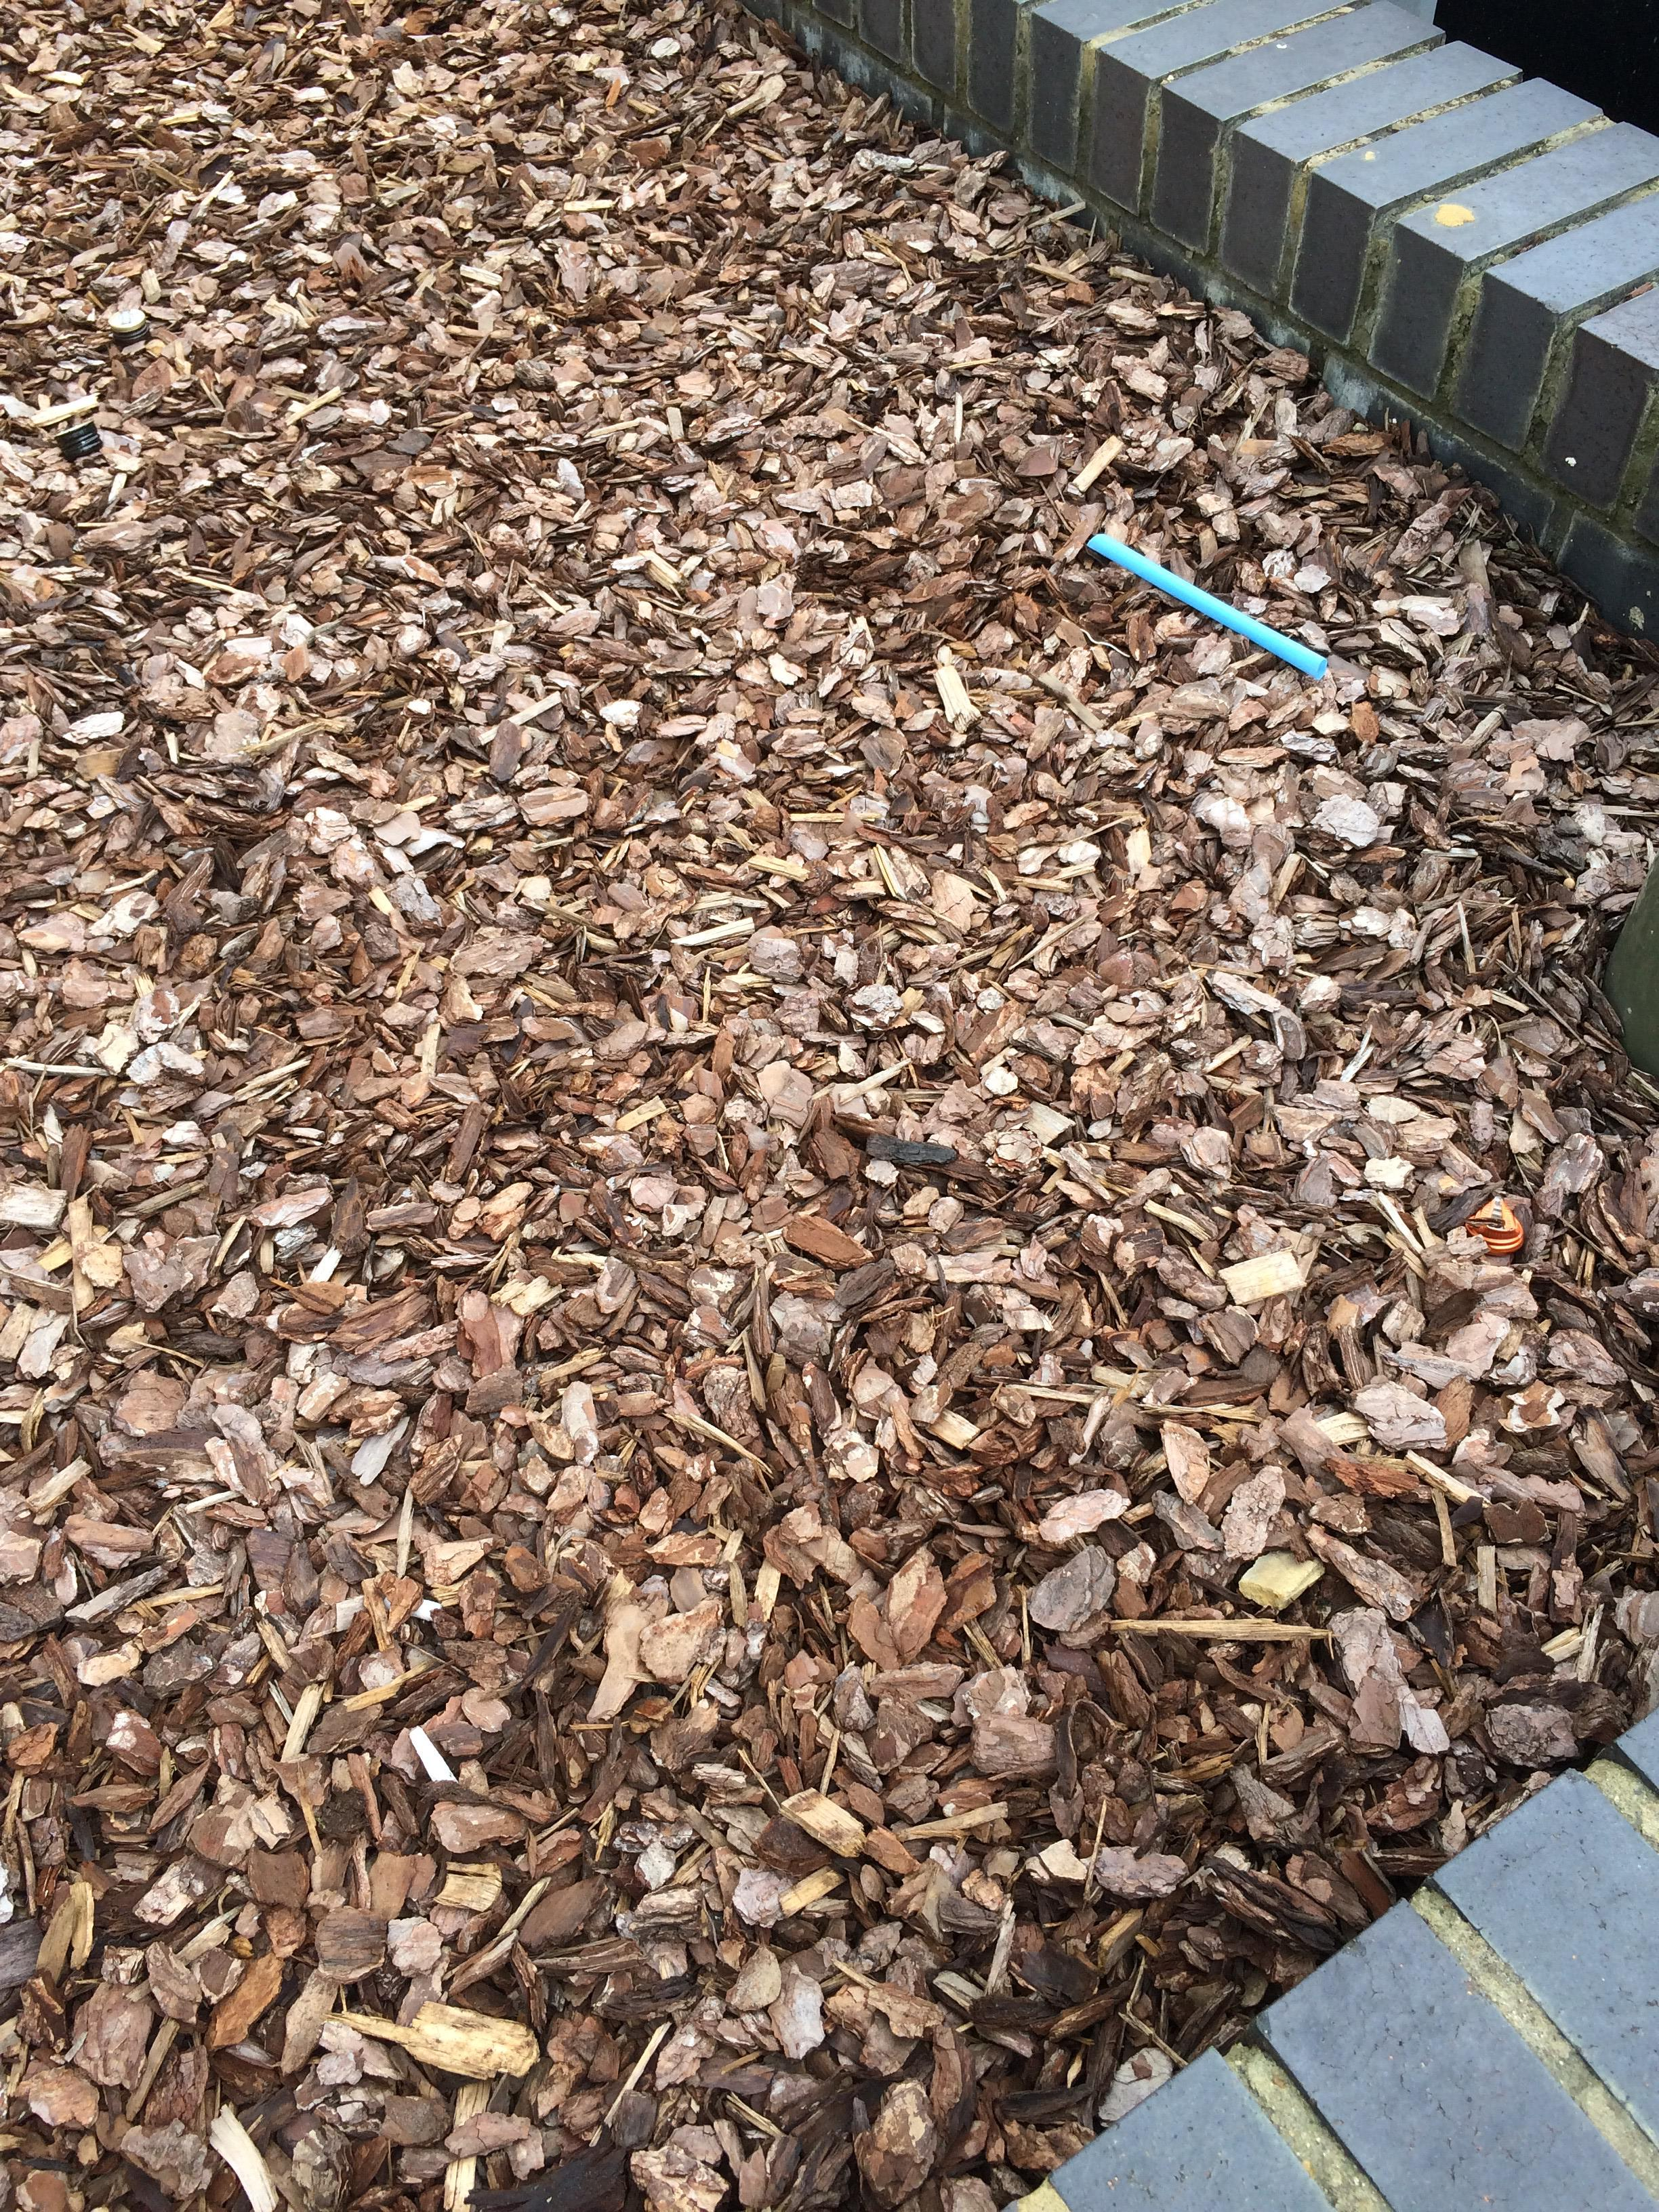Trash: (1089, 533, 1333, 681)
